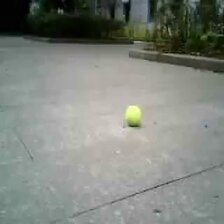tennis: (125, 105, 143, 125)
